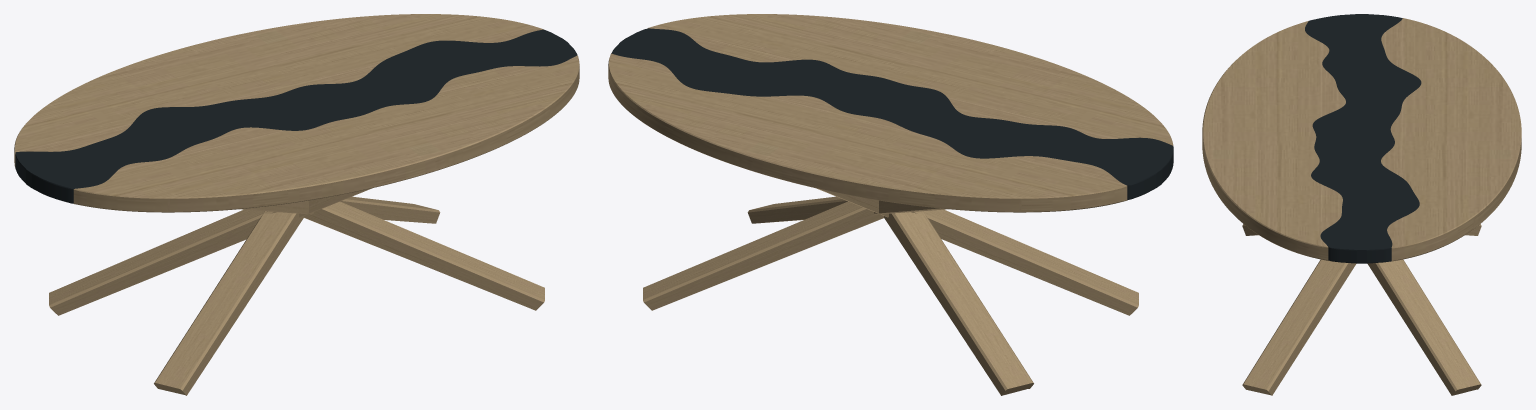
The model's file is ellipse-ash-epoxy-black.glb.
3 views of the same model, side by side, from view 1: azimuth 30°, elevation 25°; view 2: azimuth 150°, elevation 25°; view 3: azimuth 270°, elevation 25° (orthographic). The views are drawn at different scales.
Parts seen in each view (by area): view 1: Wood_Ellipse_EpoxyFar, Wood_Ellipse_EpoxyNear, Base_Ellipse, Resin_Ellipse; view 2: Wood_Ellipse_EpoxyNear, Wood_Ellipse_EpoxyFar, Base_Ellipse, Resin_Ellipse; view 3: Wood_Ellipse_EpoxyNear, Wood_Ellipse_EpoxyFar, Resin_Ellipse, Base_Ellipse.
Part boxes in pixels (x1=…): Wood_Ellipse_EpoxyFar: x1=73, y1=55, x2=579, y2=212; Wood_Ellipse_EpoxyNear: x1=14, y1=14, x2=543, y2=166; Base_Ellipse: x1=49, y1=188, x2=544, y2=395; Resin_Ellipse: x1=15, y1=29, x2=577, y2=203; Wood_Ellipse_EpoxyNear: x1=608, y1=53, x2=1127, y2=212; Wood_Ellipse_EpoxyFar: x1=647, y1=14, x2=1173, y2=145; Base_Ellipse: x1=643, y1=188, x2=1138, y2=395; Resin_Ellipse: x1=611, y1=28, x2=1173, y2=200; Wood_Ellipse_EpoxyNear: x1=1381, y1=18, x2=1521, y2=261; Wood_Ellipse_EpoxyFar: x1=1202, y1=21, x2=1345, y2=260; Resin_Ellipse: x1=1305, y1=14, x2=1421, y2=263; Base_Ellipse: x1=1242, y1=224, x2=1481, y2=395.
Size of the model in its own units: 2.13 by 0.762 by 1.22.
Materials: 2 (1 with a texture image).
